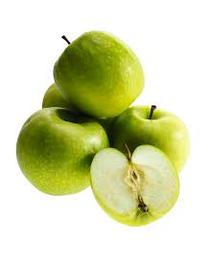apple: (15, 107, 109, 195), (53, 30, 145, 119), (90, 144, 181, 226), (110, 104, 191, 172)
